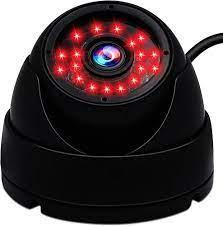maru: (0, 0, 213, 224)
